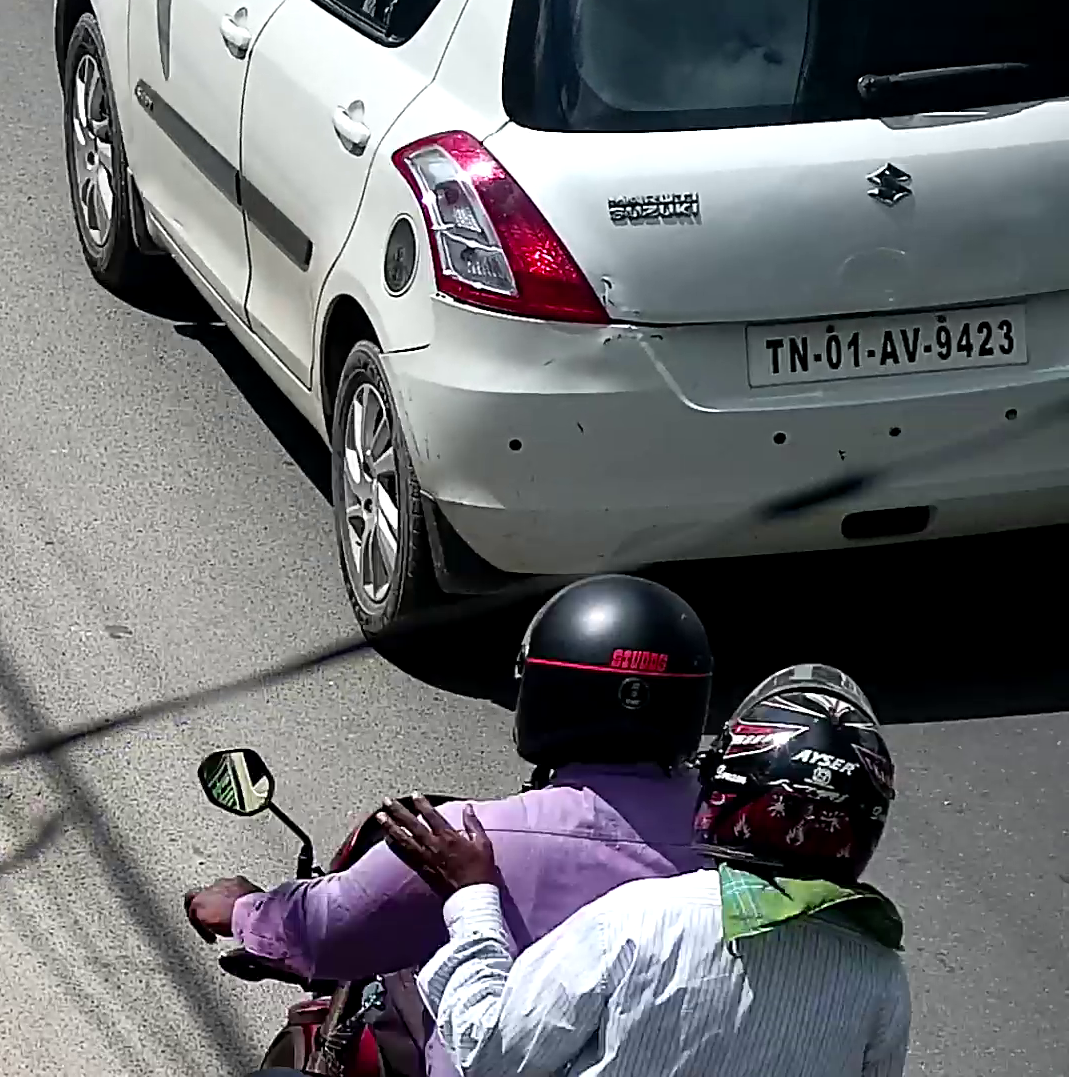-: (812, 352, 823, 364), (866, 349, 876, 358), (923, 343, 932, 353)
0: (825, 334, 843, 370)
1: (845, 330, 860, 369)
2: (977, 320, 994, 357)
3: (996, 319, 1015, 355)
4: (956, 321, 973, 358)
9: (935, 325, 952, 361)
A: (878, 330, 900, 366)
N: (787, 335, 809, 373)
P8: (743, 302, 1030, 391)
T: (765, 338, 784, 375)
V: (901, 327, 921, 363)
